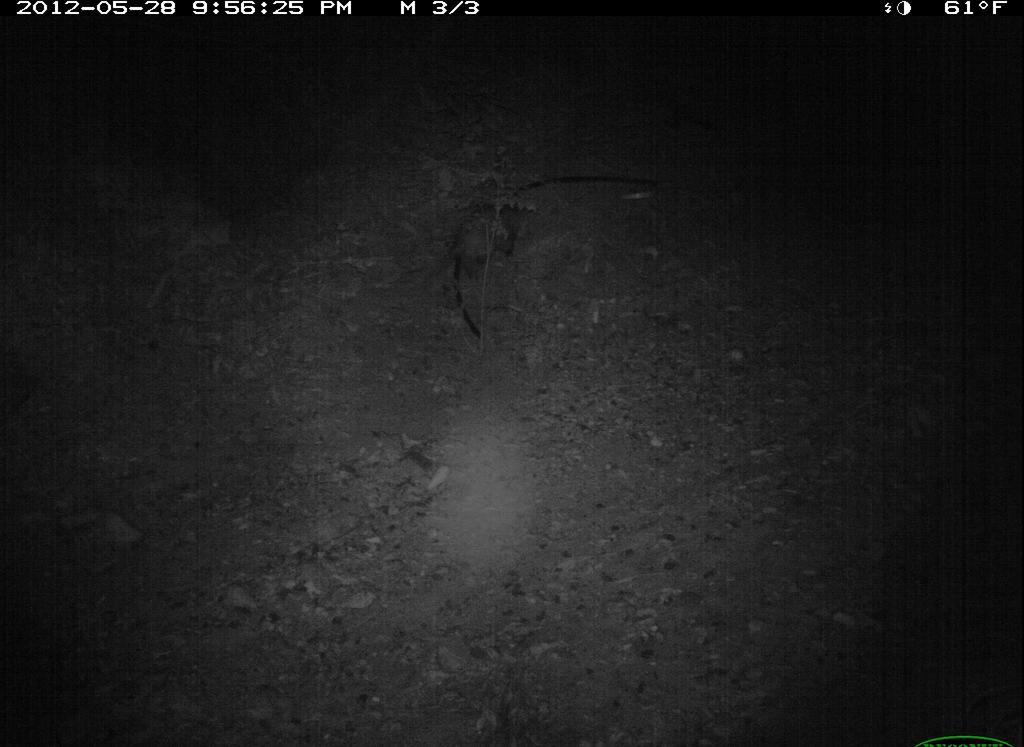opossum: (414, 178, 557, 342)
